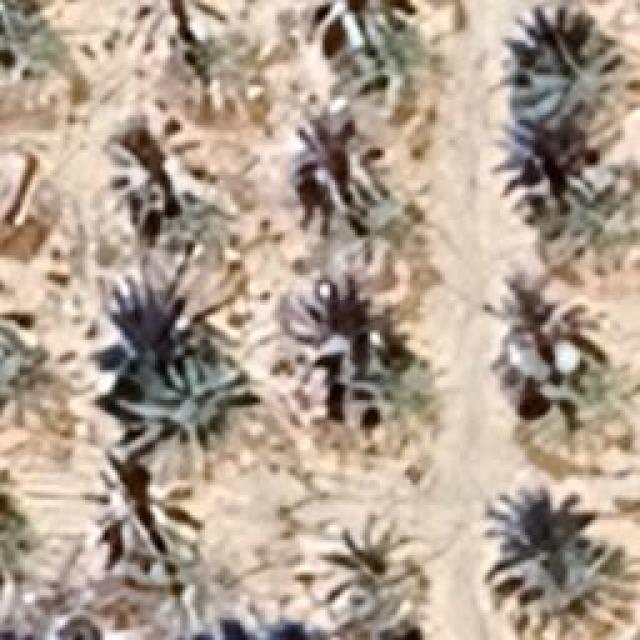PalmTree: (32, 48, 196, 219), (112, 355, 252, 483), (116, 512, 245, 630), (492, 534, 638, 638), (508, 328, 620, 452), (298, 322, 412, 442), (102, 118, 212, 236), (312, 525, 430, 633), (328, 174, 438, 284), (537, 167, 640, 284), (522, 30, 636, 135), (92, 468, 200, 570), (338, 21, 445, 121), (290, 110, 380, 222), (0, 335, 88, 430), (302, 0, 415, 62), (130, 0, 228, 55), (185, 611, 338, 640), (0, 481, 35, 604)
